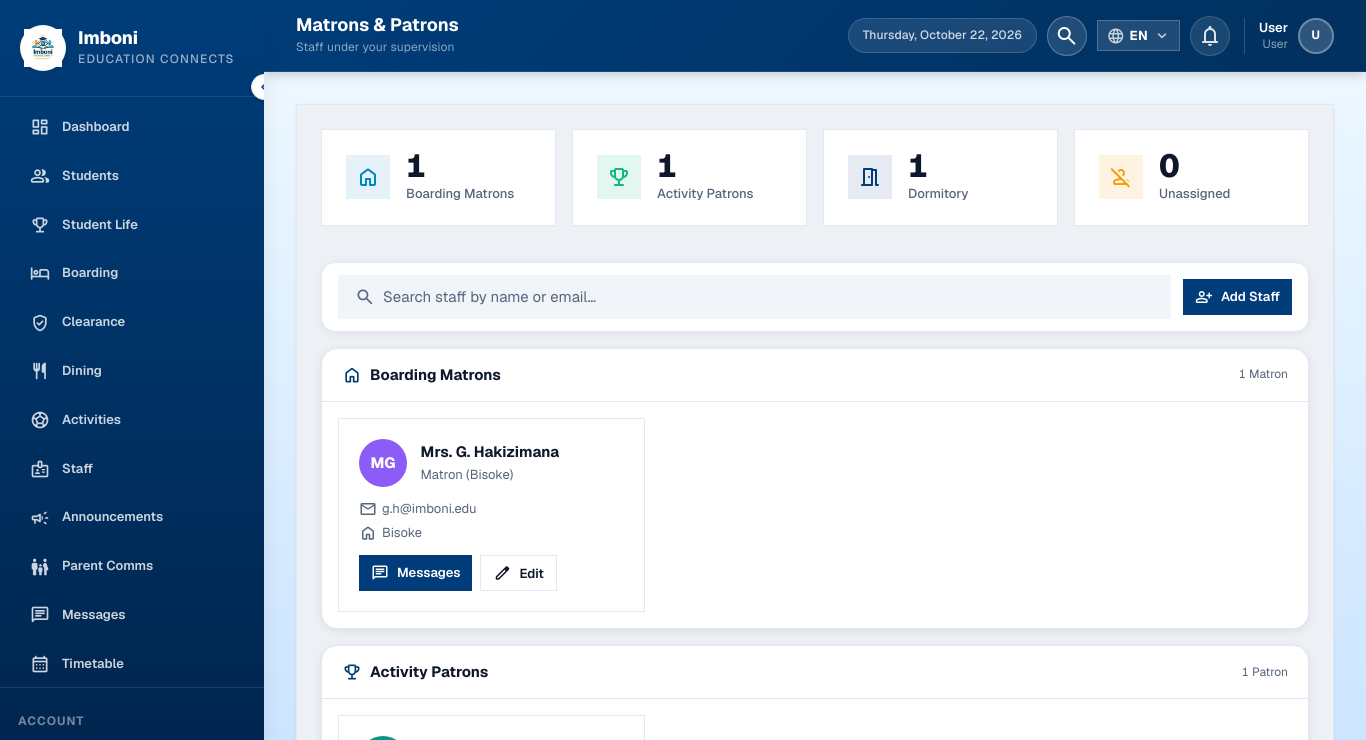
DisStaff › filters the list as you type
Expected: the text "Mrs. G. Hakizimana" is shown, [421,440,559,464]
Type "Nkurunziza" into the search field with placeholder "Search staff by name or email…".
click(768, 297); type("Nkurunziza")  # box [383,276,1154,318]
(page scrolled)
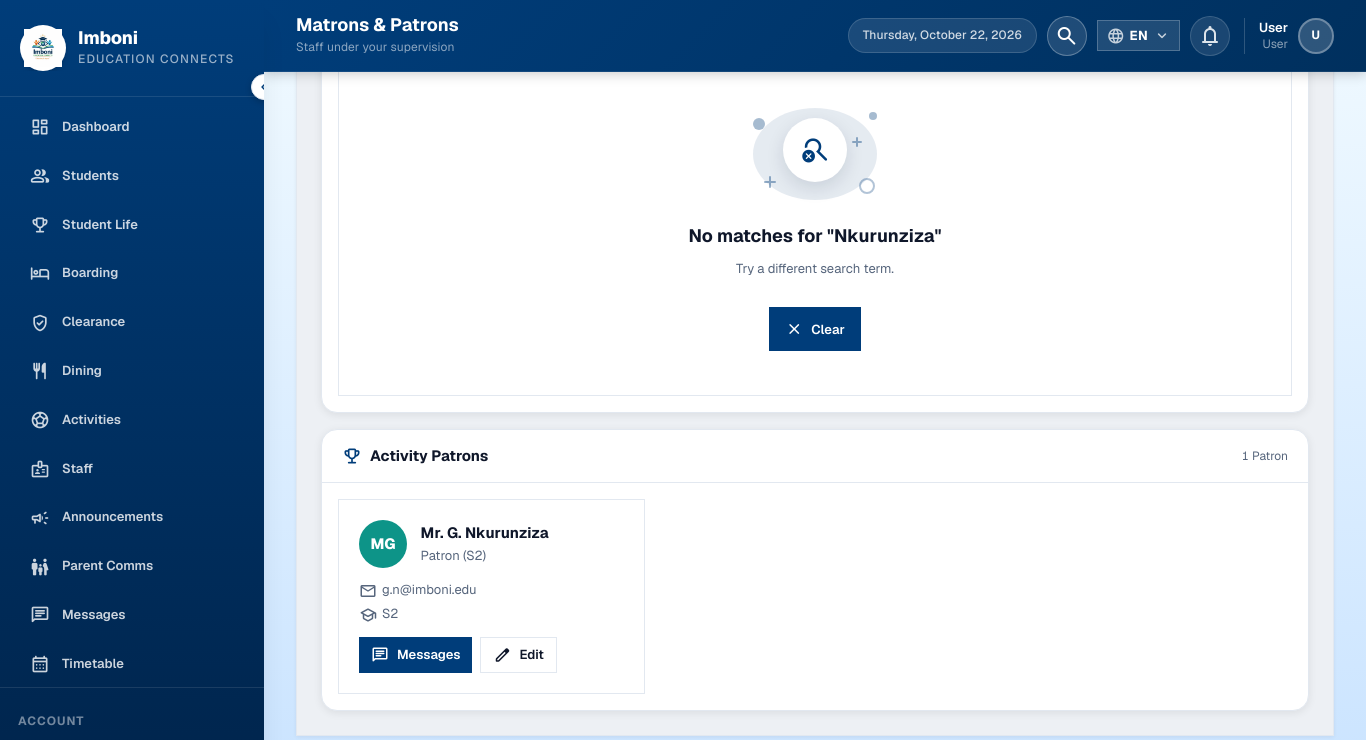
Expected: the text "Mr. G. Nkurunziza" is shown, [421,522,549,546]
Now the text "Mrs. G. Hakizimana" is gone
